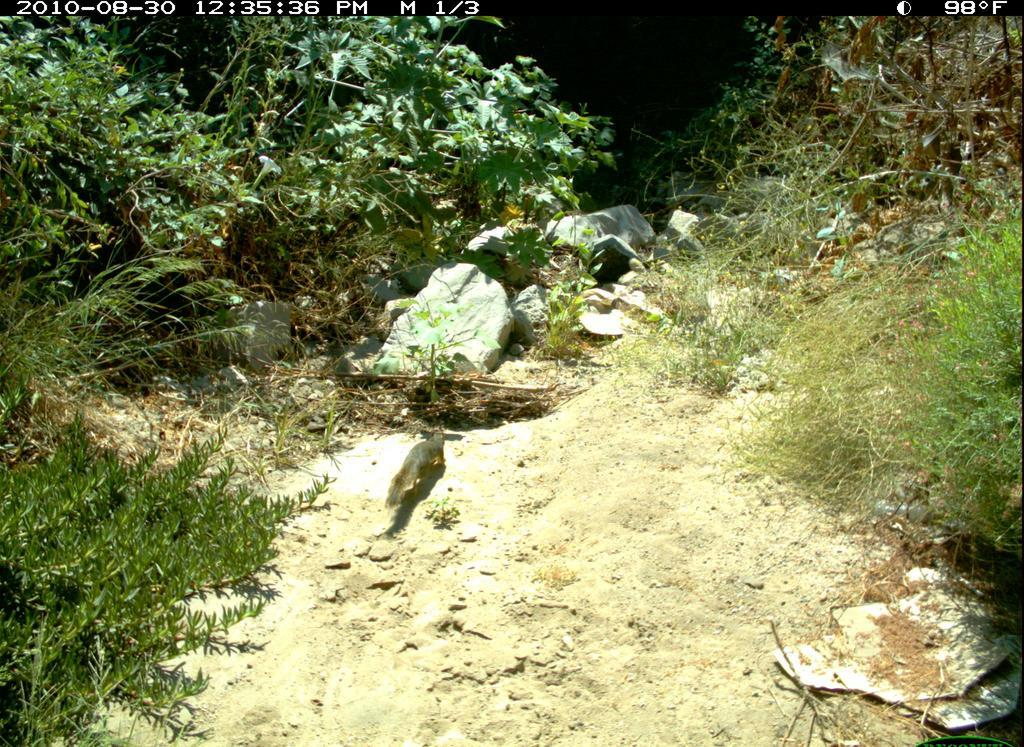squirrel: (388, 424, 452, 515)
